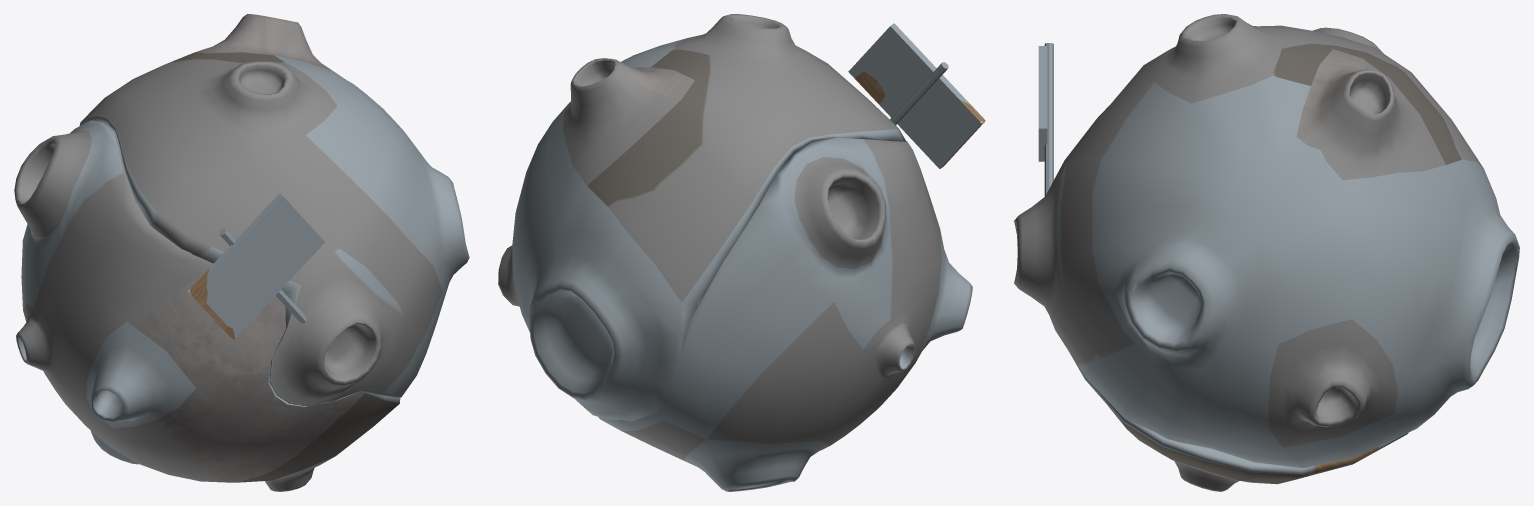
Rendered from StageModel6.fbx.
The picture shows the model from 3 angles, left to right: view 1: azimuth 30°, elevation 25°; view 2: azimuth 150°, elevation 25°; view 3: azimuth 270°, elevation 25°; orthographic projection. The views are drawn at different scales.
Visible parts, largest first — view 1: map6; view 2: map6; view 3: map6.
Part boxes in pixels (x1=…): map6: x1=14, y1=14, x2=469, y2=491; map6: x1=498, y1=14, x2=985, y2=491; map6: x1=1014, y1=14, x2=1519, y2=491.
Bounding box in the file's own units: 8.35 × 8.51 × 8.59.
